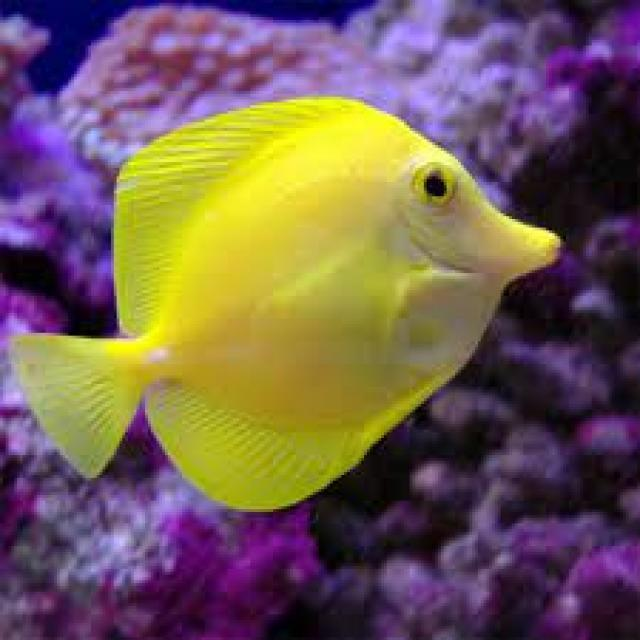TangFish: (9, 90, 562, 516)
